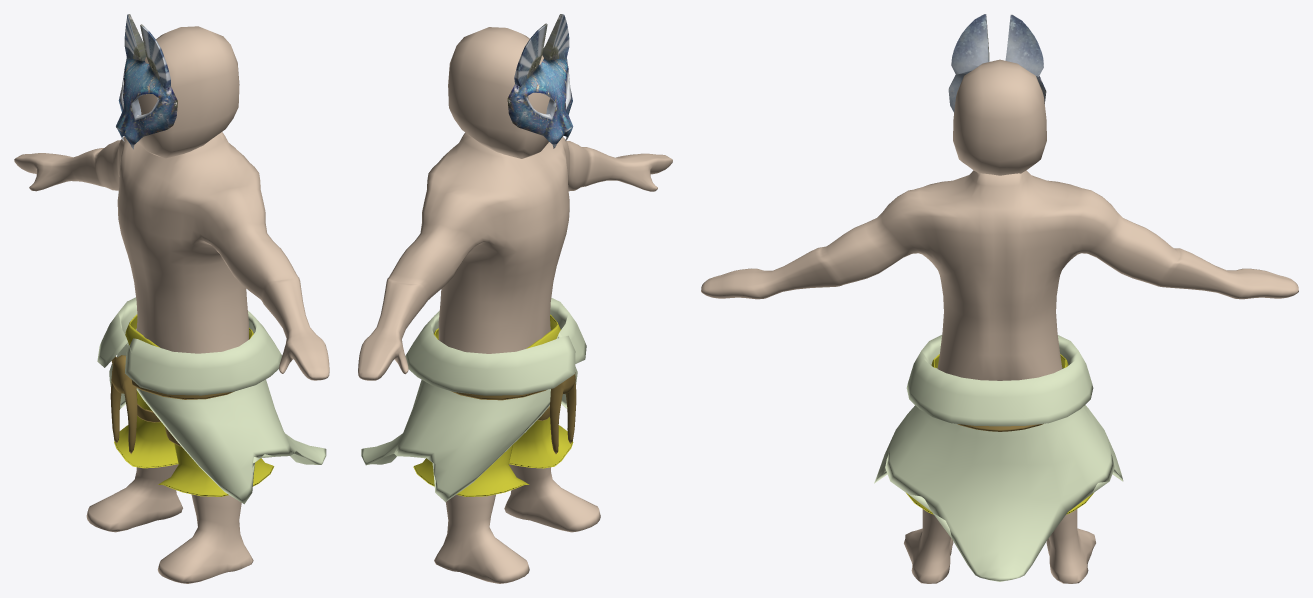
File: Player_Custome.fbx
The picture shows the model from 3 angles, left to right: view 1: azimuth 30°, elevation 25°; view 2: azimuth 150°, elevation 25°; view 3: azimuth 270°, elevation 25°; orthographic projection.
Parts seen in each view (by area): view 1: polySurface13, polySurface1, polySurface31, Mask1, polySurface3, polySurface26, polySurface7; view 2: polySurface13, polySurface1, polySurface31, Mask1, polySurface3, polySurface26; view 3: polySurface13, polySurface1, polySurface31, Mask1.
Part boxes in pixels (left/top/right/bottom): polySurface13: left=14, top=132, right=329, bottom=583; polySurface1: left=97, top=297, right=326, bottom=504; polySurface31: left=138, top=26, right=239, bottom=158; Mask1: left=116, top=14, right=177, bottom=149; polySurface3: left=114, top=314, right=274, bottom=496; polySurface26: left=110, top=355, right=137, bottom=453; polySurface7: left=111, top=356, right=234, bottom=399; polySurface13: left=358, top=132, right=672, bottom=583; polySurface1: left=361, top=297, right=586, bottom=501; polySurface31: left=448, top=27, right=549, bottom=158; Mask1: left=507, top=14, right=573, bottom=148; polySurface3: left=413, top=314, right=573, bottom=496; polySurface26: left=550, top=372, right=576, bottom=453; polySurface13: left=701, top=170, right=1298, bottom=583; polySurface1: left=874, top=335, right=1123, bottom=581; polySurface31: left=953, top=59, right=1046, bottom=175; Mask1: left=948, top=14, right=1046, bottom=112.
Size of the model in its own units: 2.27 by 5.33 by 5.43.
